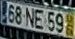5: (46, 11, 55, 32), (7, 4, 14, 23)
8: (14, 5, 22, 26)
9: (54, 12, 63, 34)
E: (34, 8, 44, 30)
N: (25, 6, 34, 28)
